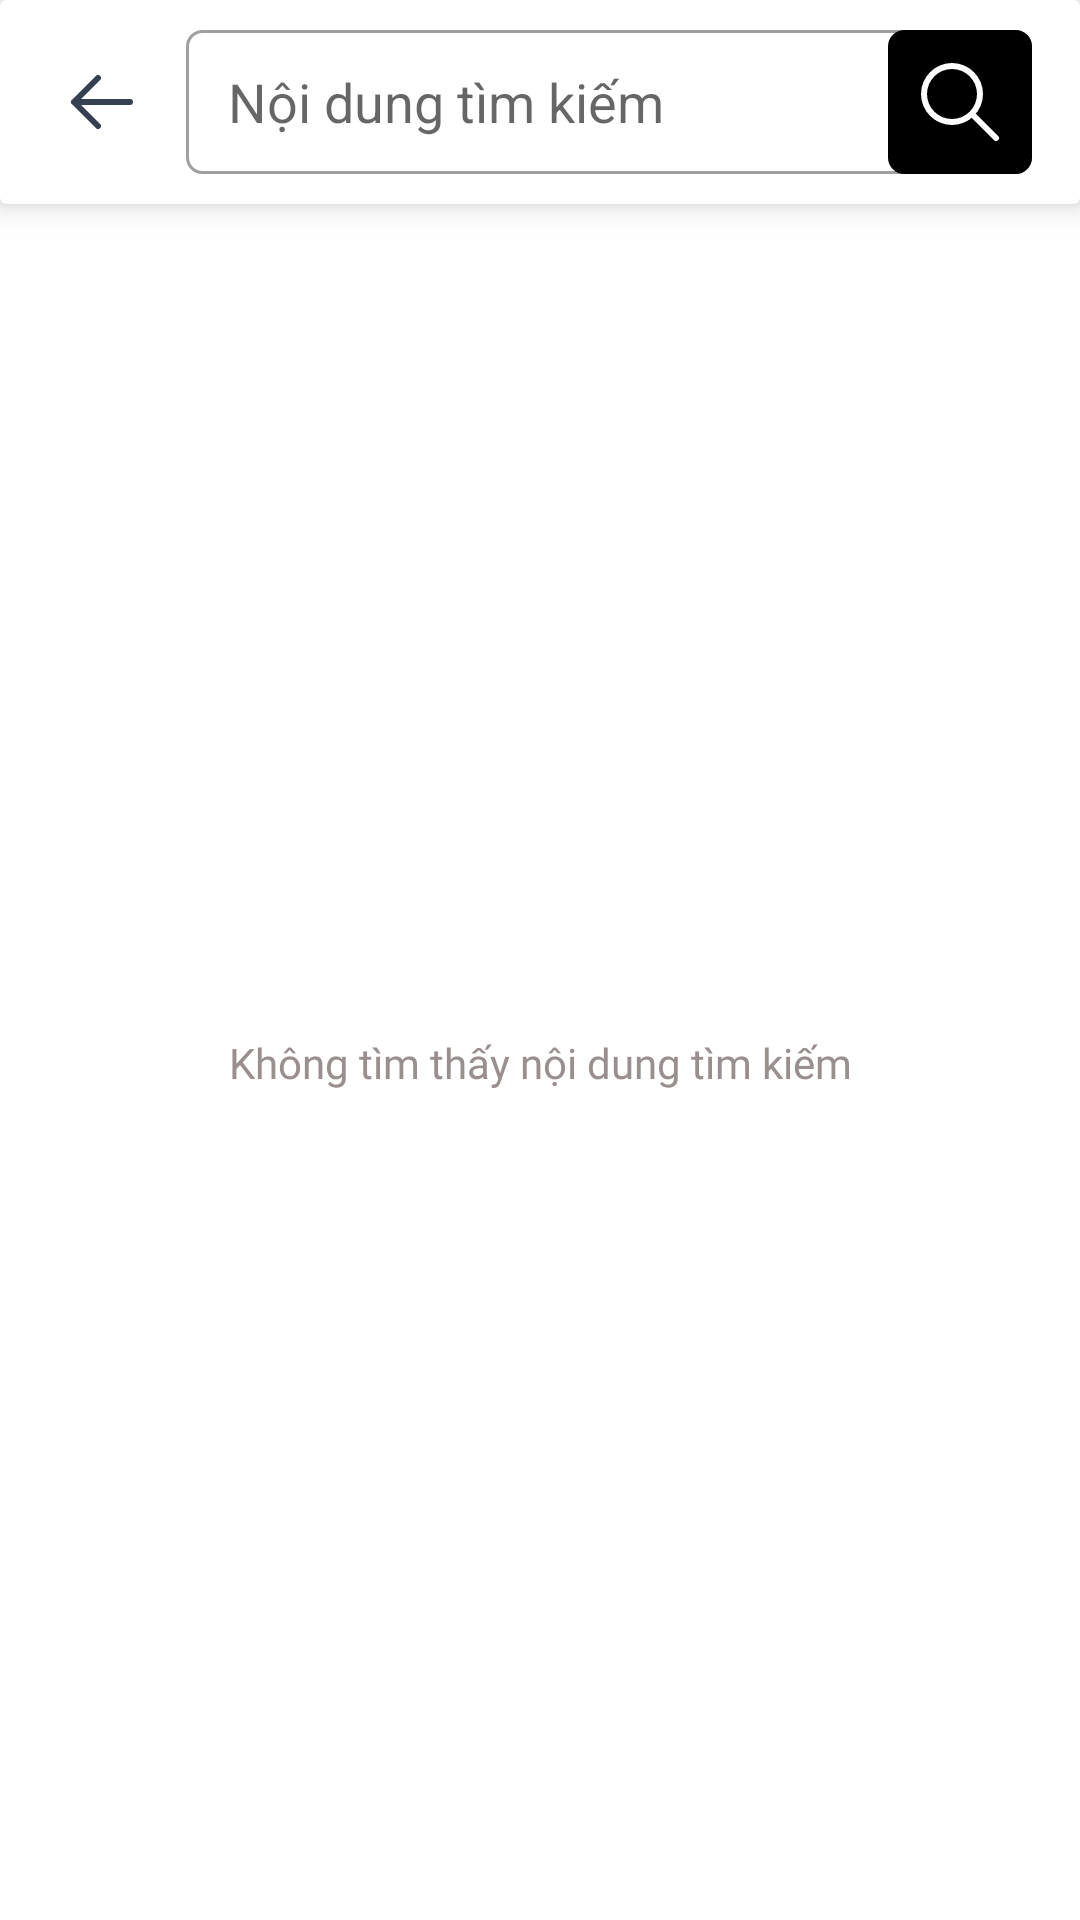

Icons on this 1080 × 1920 Android screen, each with its box as box=[x1, y1, x2, y2]:
arrow left: box=[71, 75, 133, 129]
search: box=[888, 30, 1032, 174]
